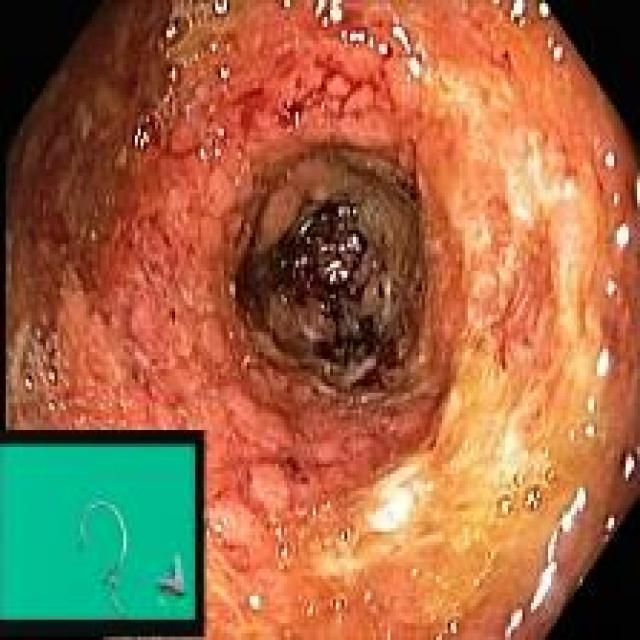ulcerative-colitis-grade-3: (6, 0, 640, 639)
